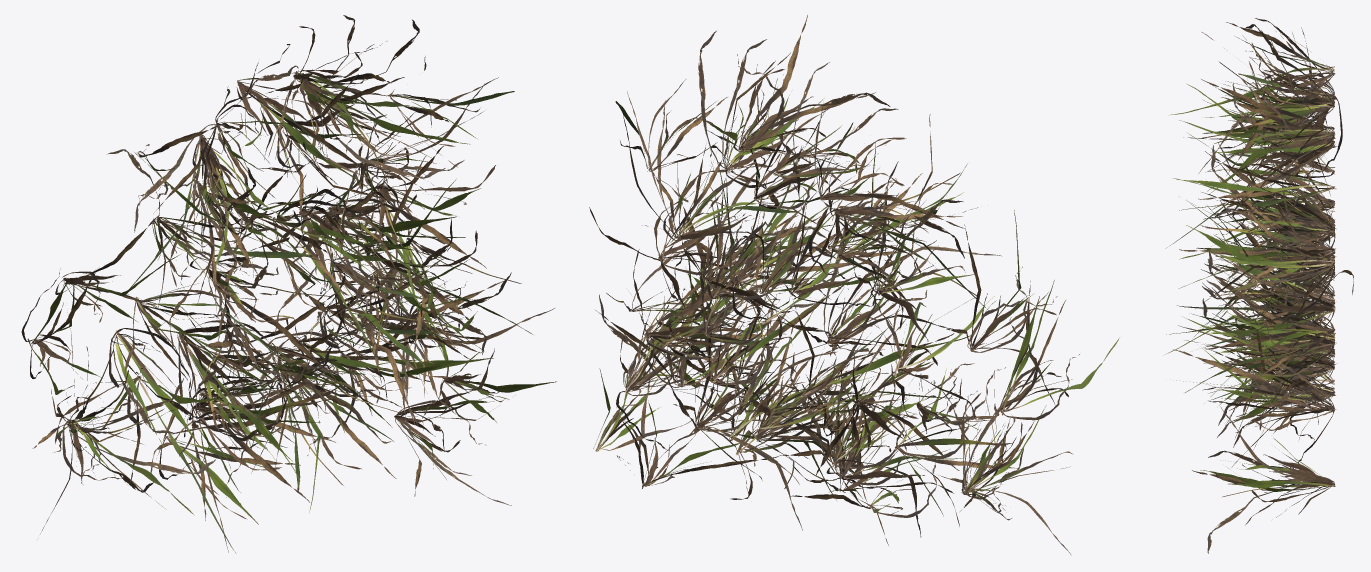
File: Grass_03_Var1_LOD1.fbx
3 renders of one model, left to right at view 1: azimuth 30°, elevation 25°; view 2: azimuth 150°, elevation 25°; view 3: azimuth 270°, elevation 25°, orthographic. The views are drawn at different scales.
Visible parts, largest first — view 1: Var1_LOD1; view 2: Var1_LOD1; view 3: Var1_LOD1.
Boxes of the visible parts, x1,y1,x2,y2 form: Var1_LOD1: (21,15,556,553); Var1_LOD1: (589,15,1119,555); Var1_LOD1: (1163,18,1353,553).
Size of the model in its own units: 67.97 by 64.23 by 25.51.
